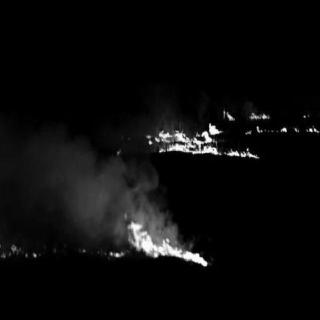Fire: (0, 215, 209, 262), (146, 112, 277, 164)
